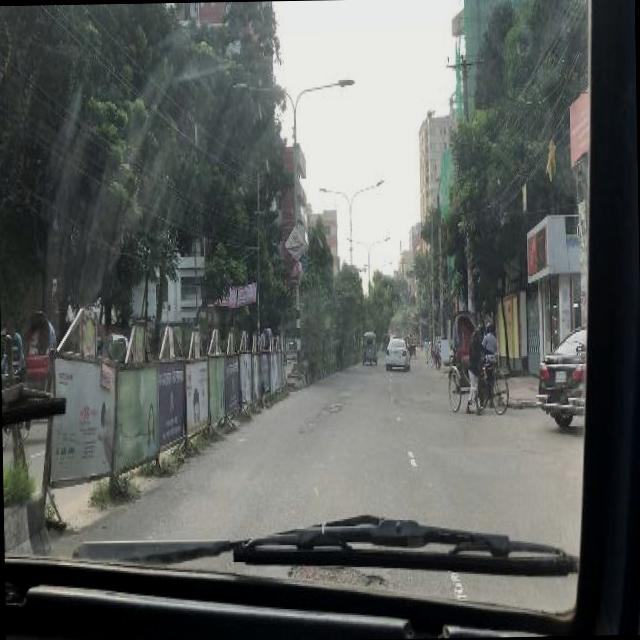car: (537, 330, 590, 423), (386, 338, 412, 366)
motorcycle: (1, 306, 58, 444), (448, 309, 509, 412), (362, 332, 380, 362), (408, 333, 418, 356)
